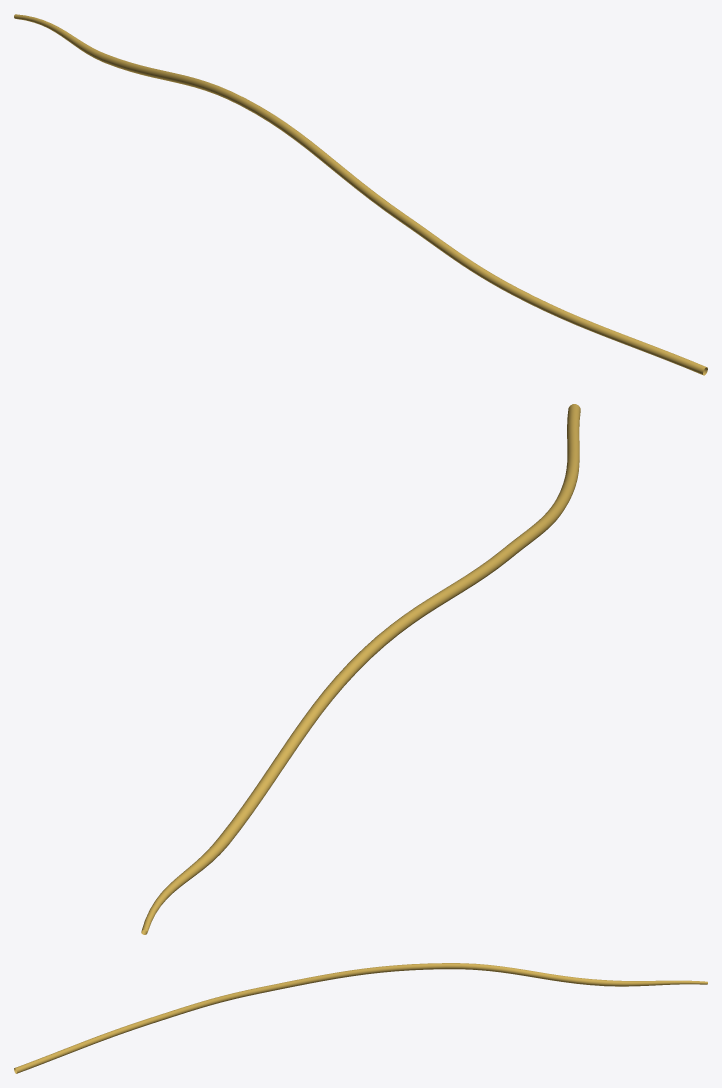
3 views of the same model, one above another, from view 1: azimuth 30°, elevation 25°; view 2: azimuth 150°, elevation 25°; view 3: azimuth 270°, elevation 25° (orthographic). The views are drawn at different scales.
Parts seen in each view (by area): view 1: 右侧肌皮神经; view 2: 右侧肌皮神经; view 3: 右侧肌皮神经.
Boxes of the visible parts, box(x1,y1,x2,y2) form: 右侧肌皮神经: box(14, 14, 707, 375); 右侧肌皮神经: box(141, 404, 580, 934); 右侧肌皮神经: box(14, 963, 707, 1073).
Bounding box in the file's own units: 0.0723 × 0.0308 × 0.3231.
